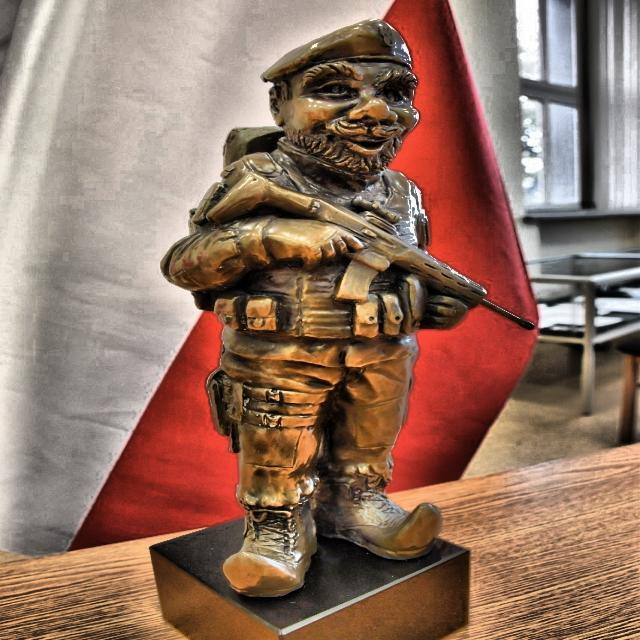WOTus: (162, 20, 534, 596)
